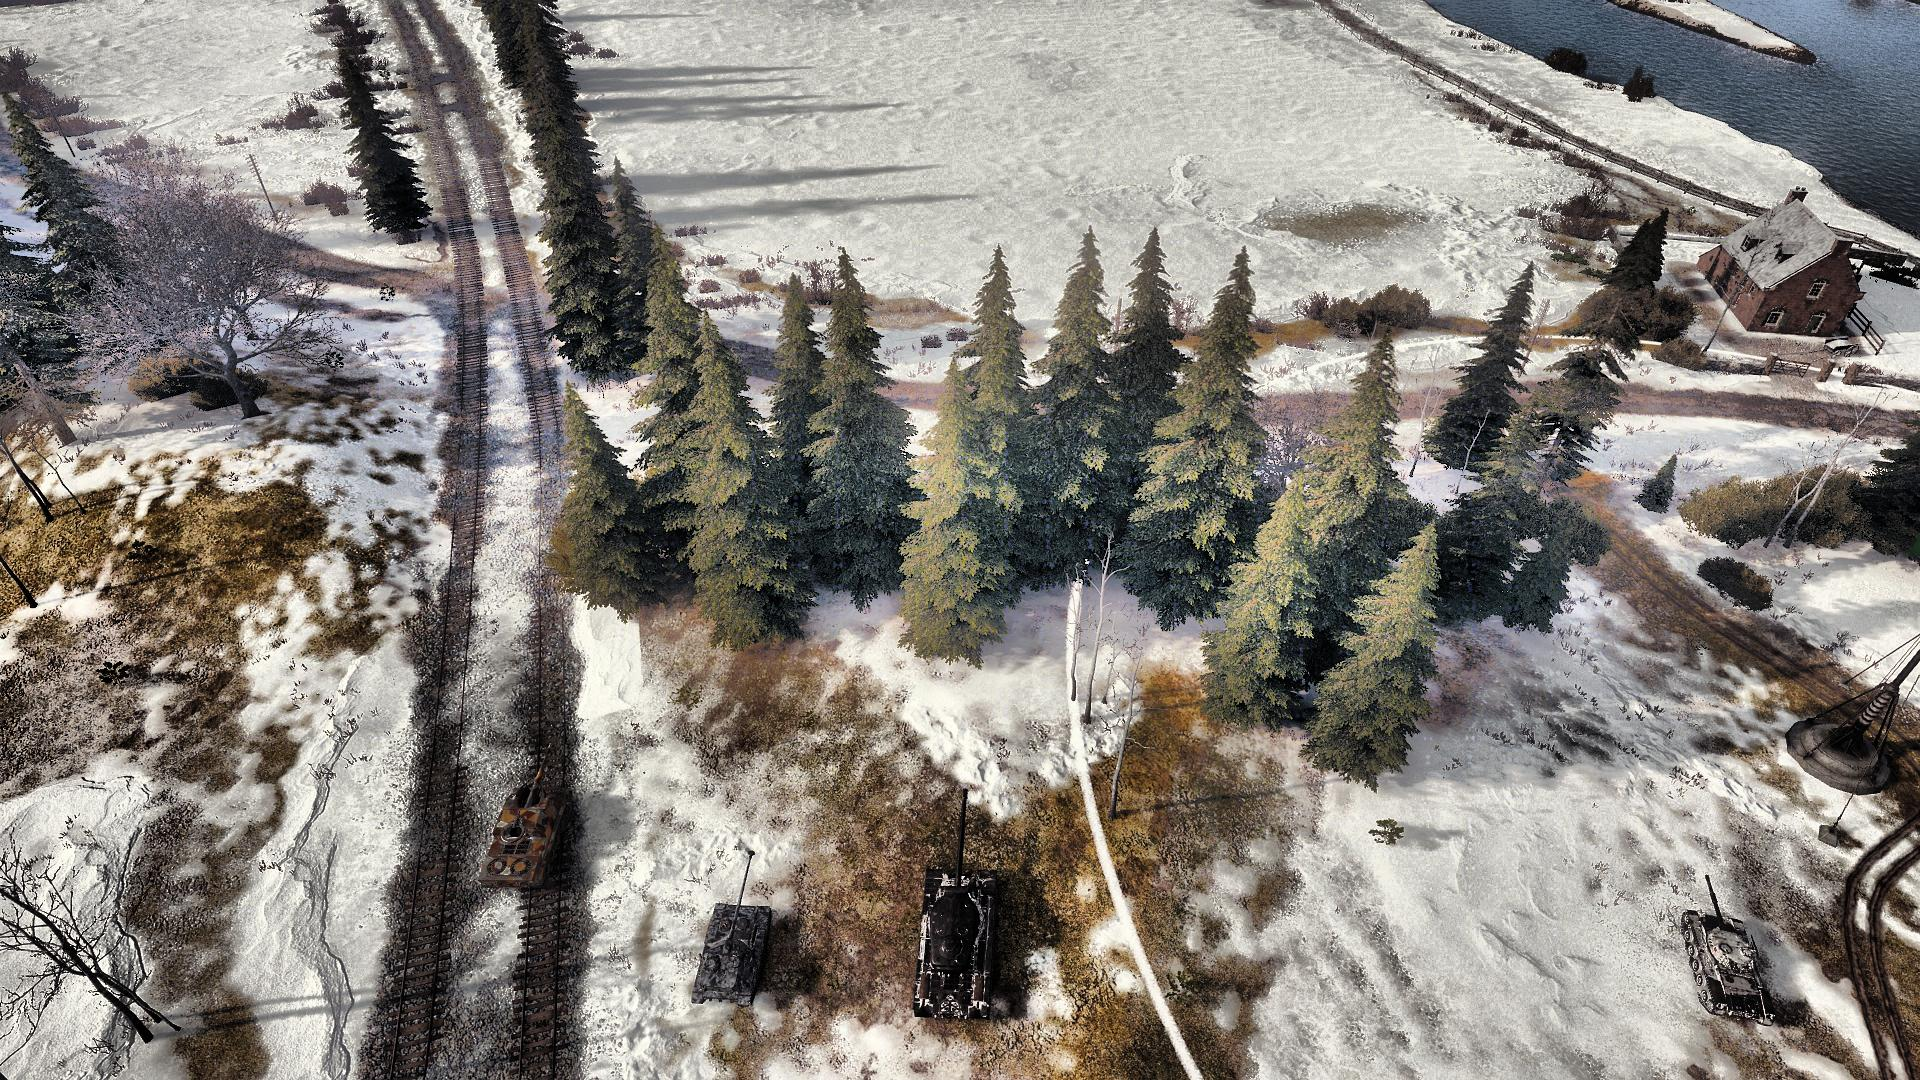military-vehicle: (914, 790, 997, 1023), (1681, 877, 1776, 1025), (475, 746, 567, 893), (688, 852, 773, 1006)
